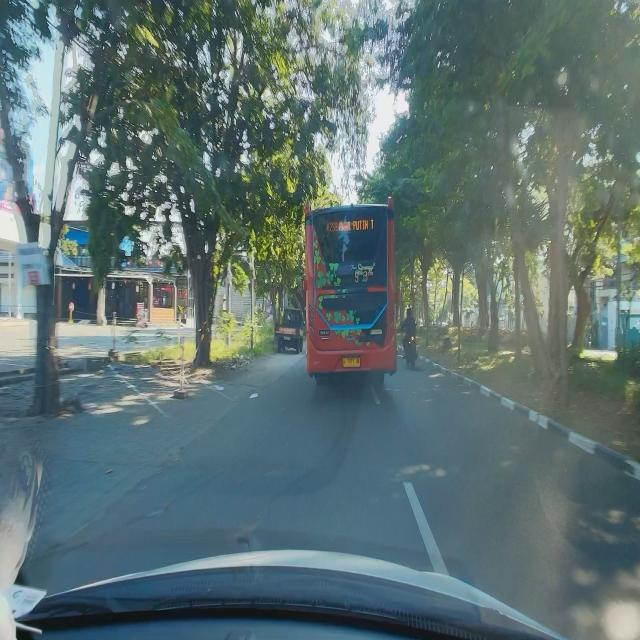bus: (303, 194, 400, 391)
license-plate: (342, 356, 362, 368), (284, 336, 290, 341)
truck: (274, 302, 305, 356)
